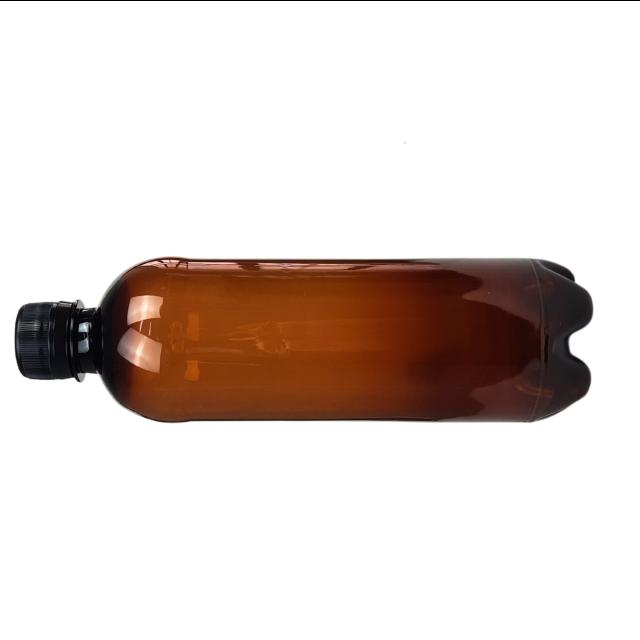bottom: (529, 244, 600, 435)
cap: (12, 284, 97, 388)
